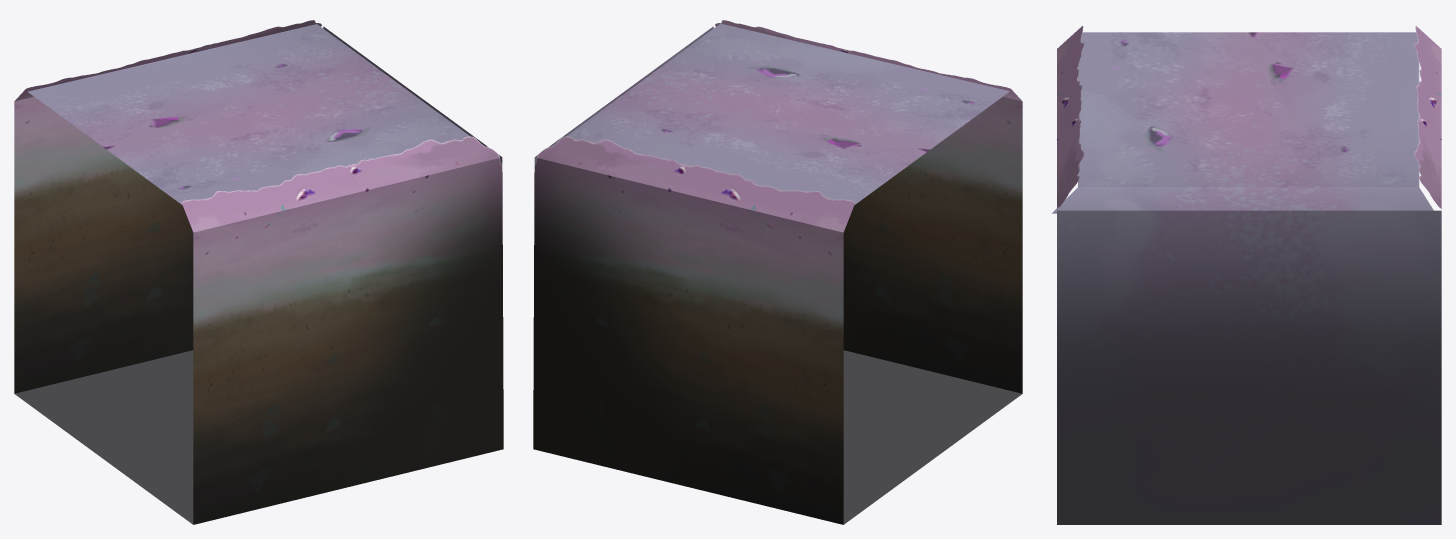
The picture shows the model from 3 angles, left to right: view 1: azimuth 30°, elevation 25°; view 2: azimuth 150°, elevation 25°; view 3: azimuth 270°, elevation 25°; orthographic projection. The views are drawn at different scales.
Parts seen in each view (by area): view 1: polySurface1, polySurface2; view 2: polySurface1, polySurface2; view 3: polySurface1, polySurface2.
Part boxes in pixels (<box>): polySurface1: <box>14,20,503,524</box>; polySurface2: <box>27,24,469,204</box>; polySurface1: <box>533,20,1022,524</box>; polySurface2: <box>567,23,1009,204</box>; polySurface1: <box>1057,26,1441,524</box>; polySurface2: <box>1052,32,1433,213</box>.
Bounding box in the file's own units: 100 × 100 × 101.
1 material, 1 textured.
